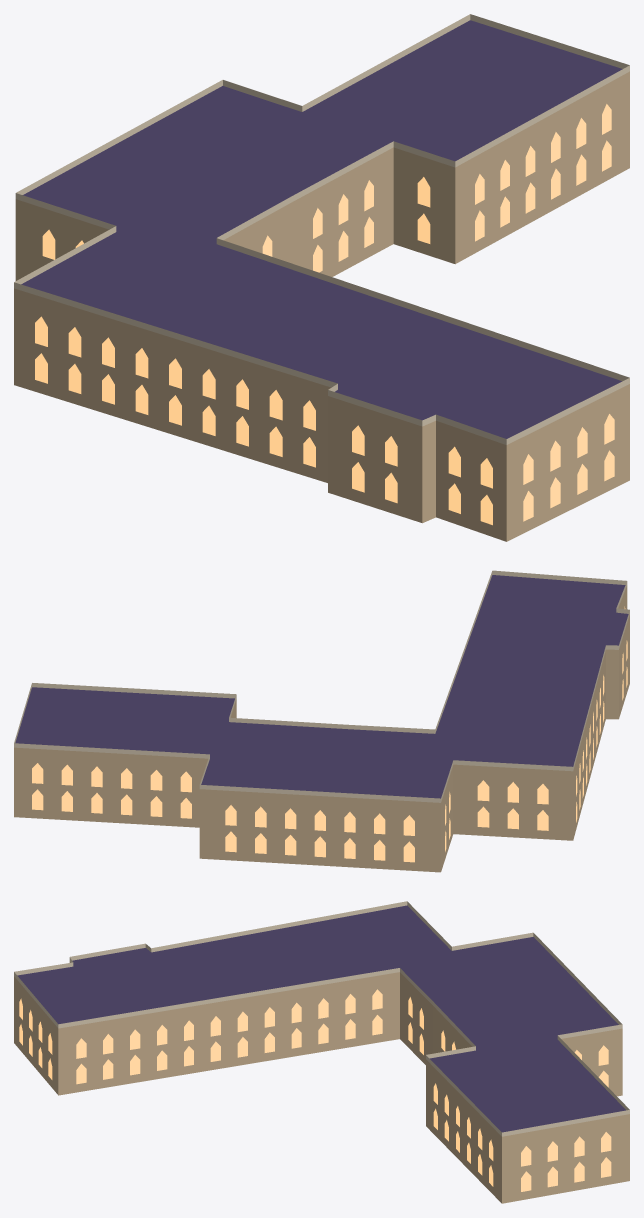
3 views of the same model, one above another, from view 1: azimuth 30°, elevation 25°; view 2: azimuth 150°, elevation 25°; view 3: azimuth 270°, elevation 25° (orthographic). The views are drawn at different scales.
Visible parts, largest first — view 1: campus/b-014-0; view 2: campus/b-014-0; view 3: campus/b-014-0.
Boxes of the visible parts, <box> form: campus/b-014-0: <box>14,14,629,541</box>; campus/b-014-0: <box>14,570,629,872</box>; campus/b-014-0: <box>14,901,629,1203</box>.
Bounding box in the file's own units: 64.41 × 9.25 × 72.48.
